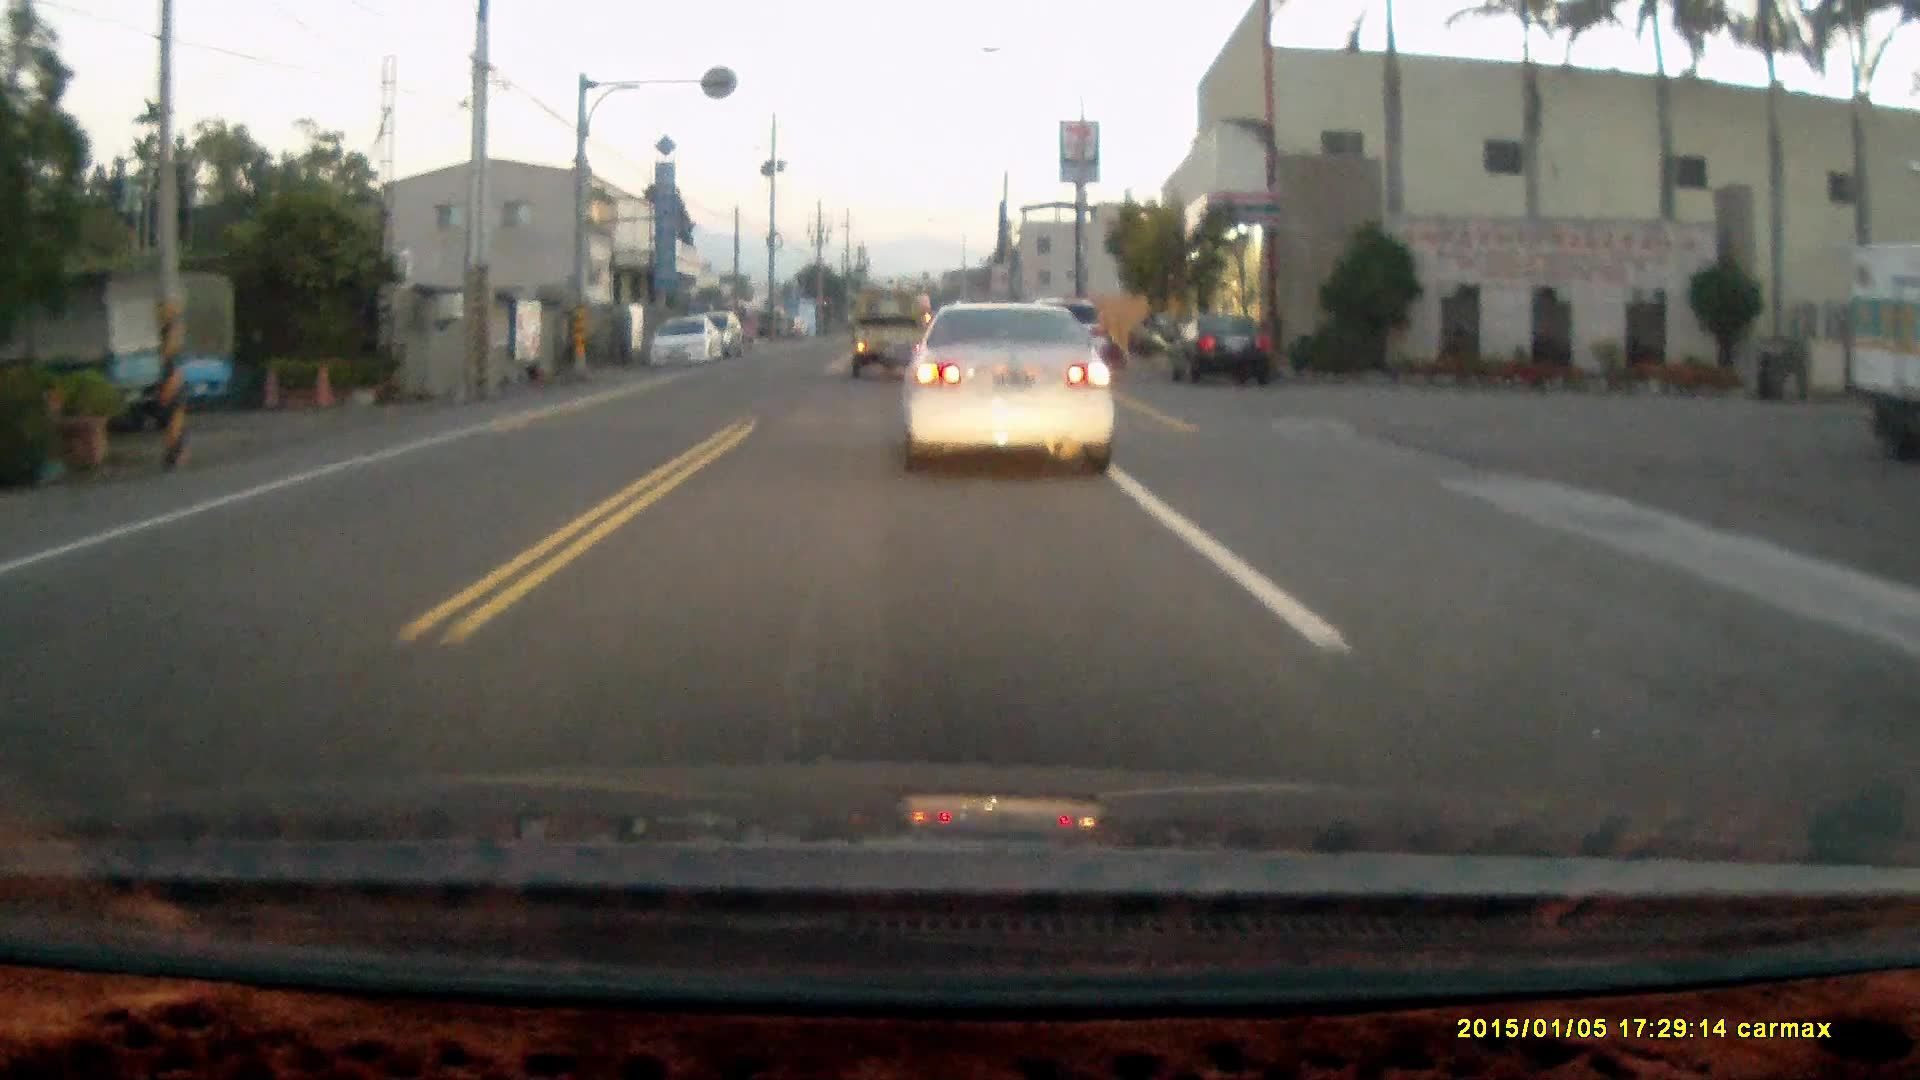vehicle: (906, 299, 1124, 485), (1838, 239, 1920, 468), (1164, 309, 1276, 384), (849, 293, 931, 381), (645, 314, 728, 368)
